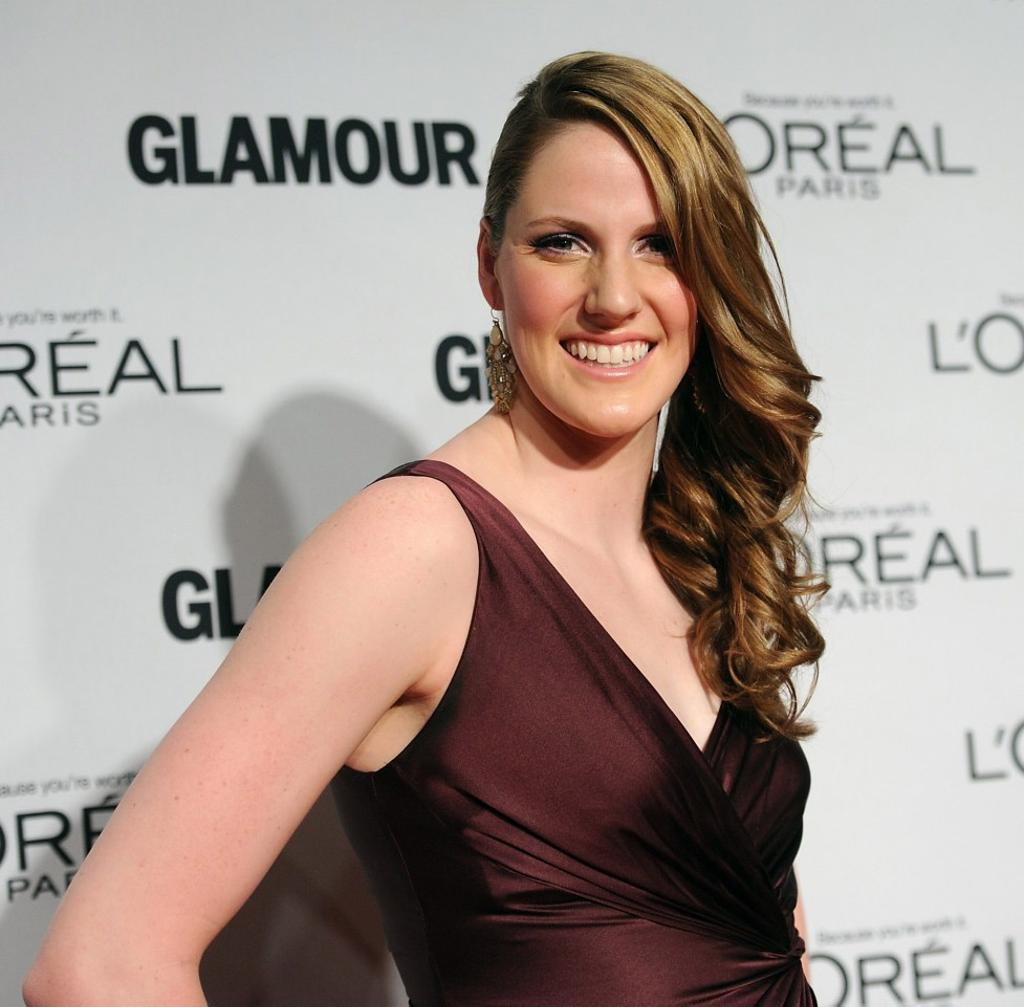face: (500, 156, 704, 438)
